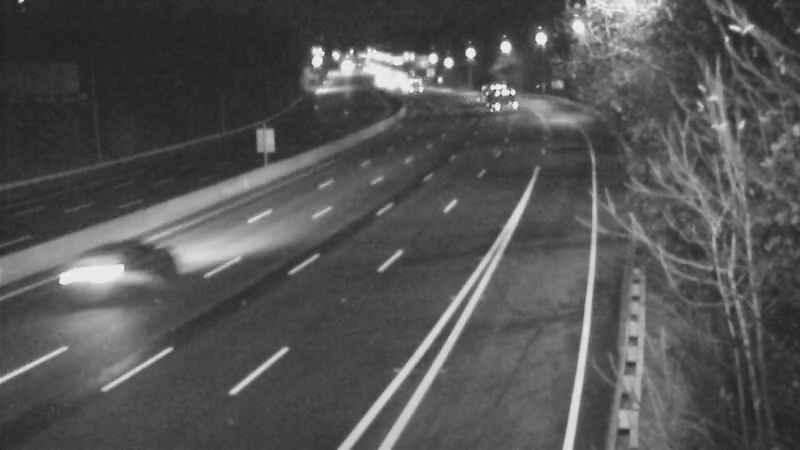vehicle: (51, 221, 131, 301), (460, 65, 510, 115), (394, 60, 444, 110), (475, 80, 525, 130)
